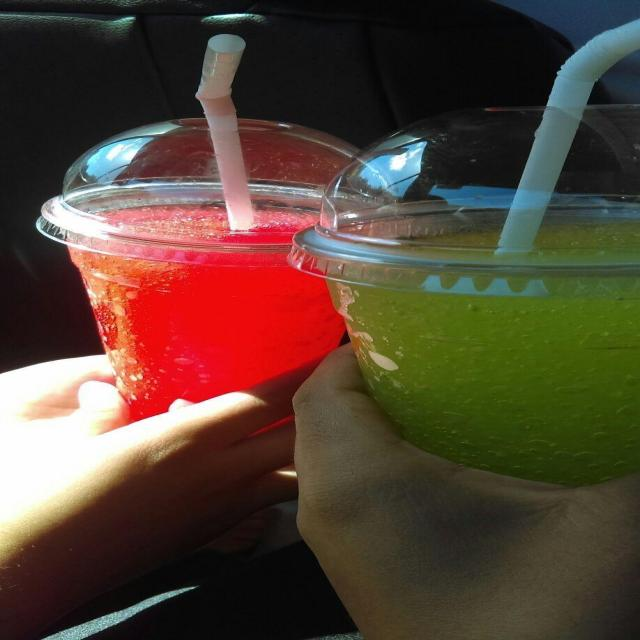cup-disposable: (292, 102, 639, 485), (34, 116, 370, 438)
